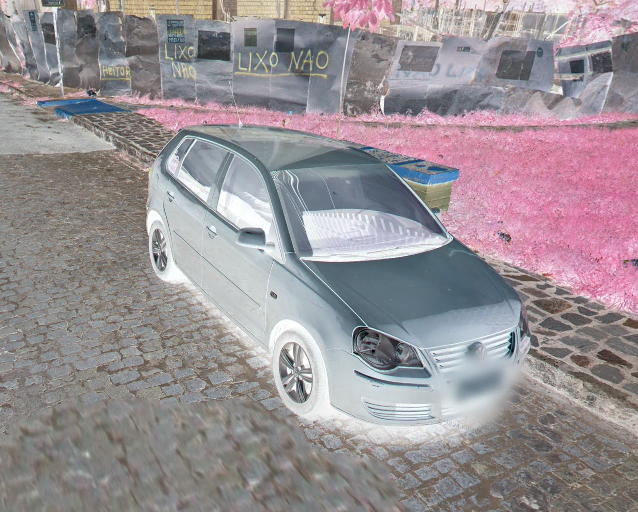car: (143, 80, 534, 430)
